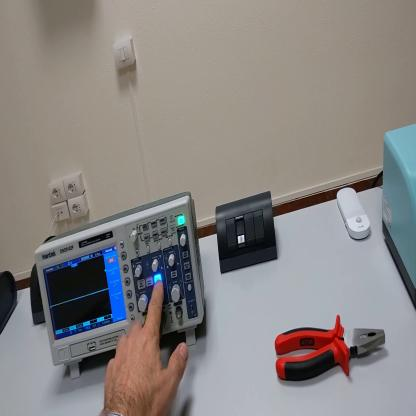hand: (103, 277, 188, 415)
oscilloscope: (36, 191, 206, 381)
pliers: (276, 311, 388, 384)
socket: (2, 268, 19, 334), (28, 268, 46, 327)
welder station: (381, 122, 415, 300)
